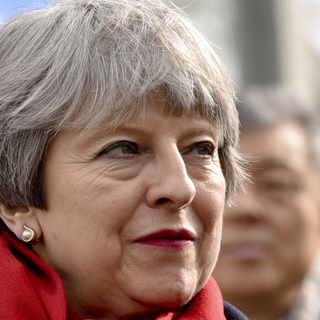eye: (94, 138, 145, 163), (179, 138, 217, 163)
